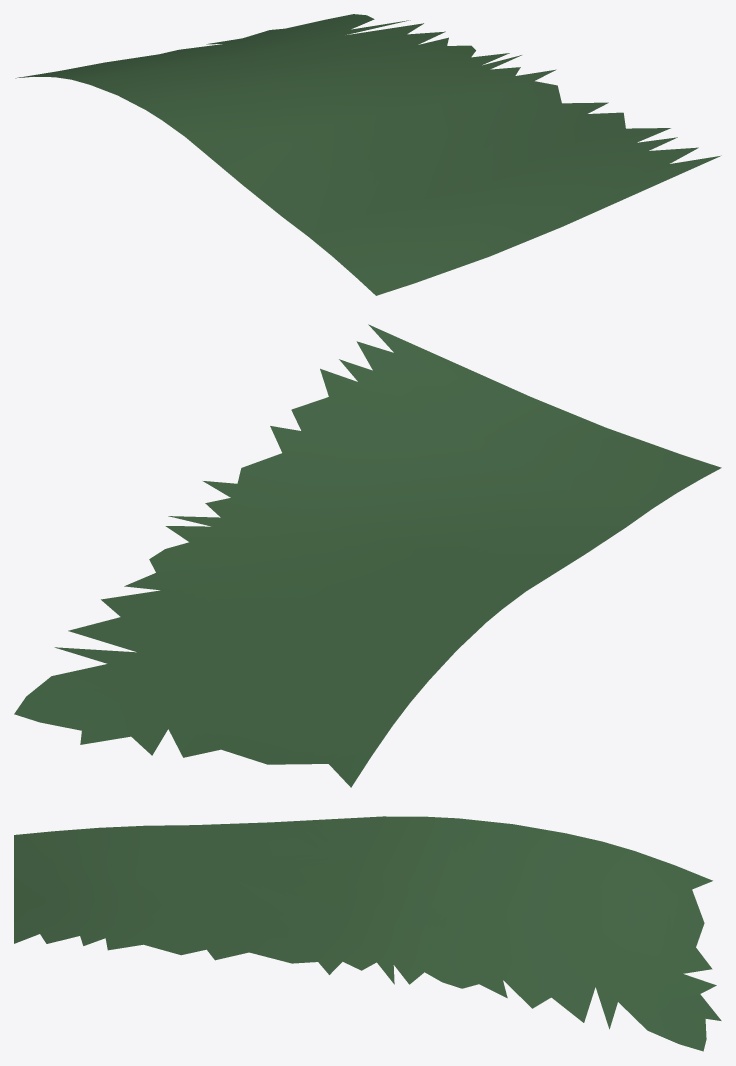
File: payo_land_x4_y10_lod1.glb
The picture shows the model from 3 angles, top to bottom: view 1: azimuth 30°, elevation 25°; view 2: azimuth 150°, elevation 25°; view 3: azimuth 270°, elevation 25°; orthographic projection. The views are drawn at different scales.
Parts seen in each view (by area): view 1: payo_land_x4_y10; view 2: payo_land_x4_y10; view 3: payo_land_x4_y10.
Boxes of the visible parts, <box> form: payo_land_x4_y10: <box>15,14,721,295</box>; payo_land_x4_y10: <box>14,324,721,787</box>; payo_land_x4_y10: <box>14,816,721,1051</box>.
Bounding box in the file's own units: 136 × 45.61 × 249.
